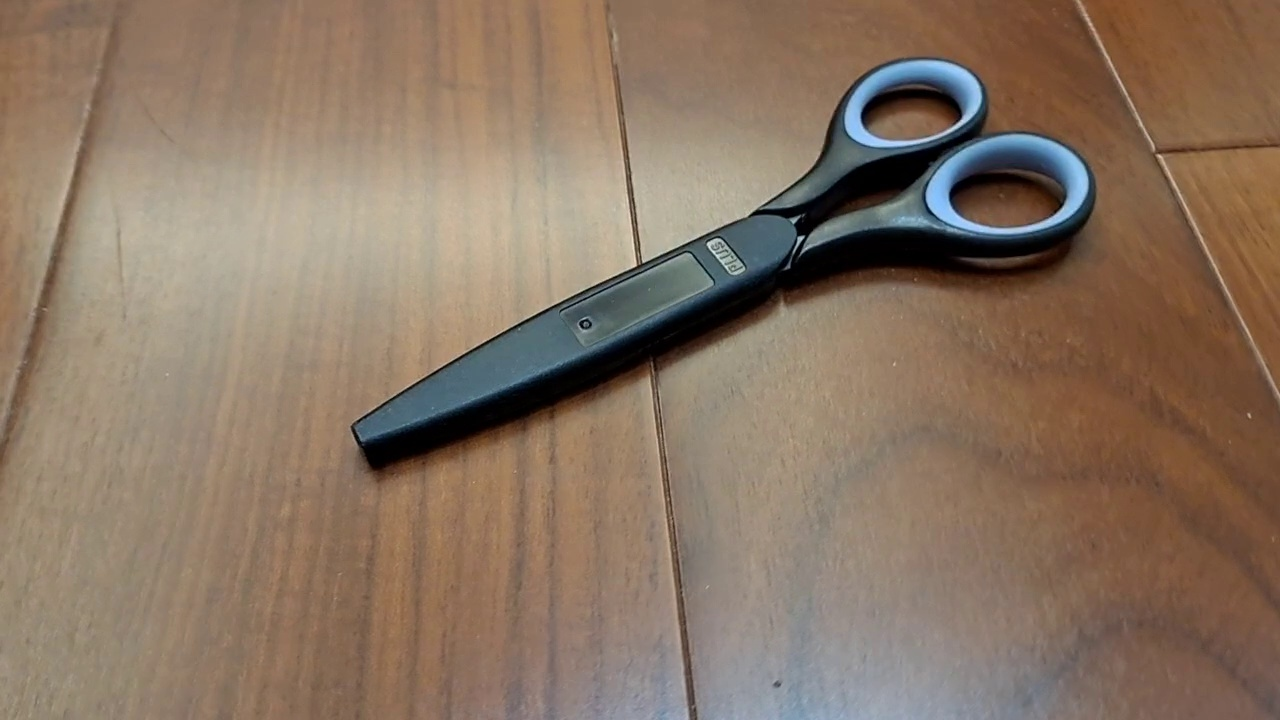scissors: (349, 55, 1097, 471)
